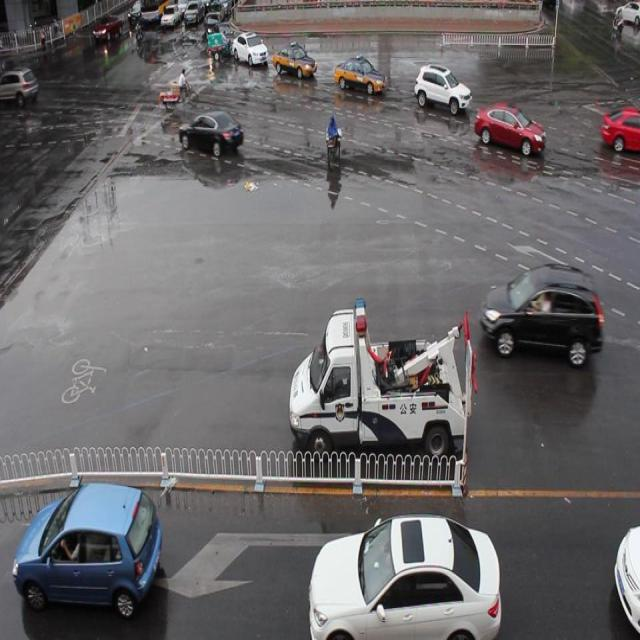bus: (288, 293, 476, 462)
car: (308, 511, 501, 640), (13, 483, 162, 616), (478, 261, 603, 365), (472, 100, 544, 156), (412, 62, 472, 115), (179, 108, 244, 155), (612, 523, 640, 630), (333, 53, 387, 96), (600, 102, 640, 154), (273, 38, 317, 82), (233, 29, 268, 69), (216, 18, 237, 58)
